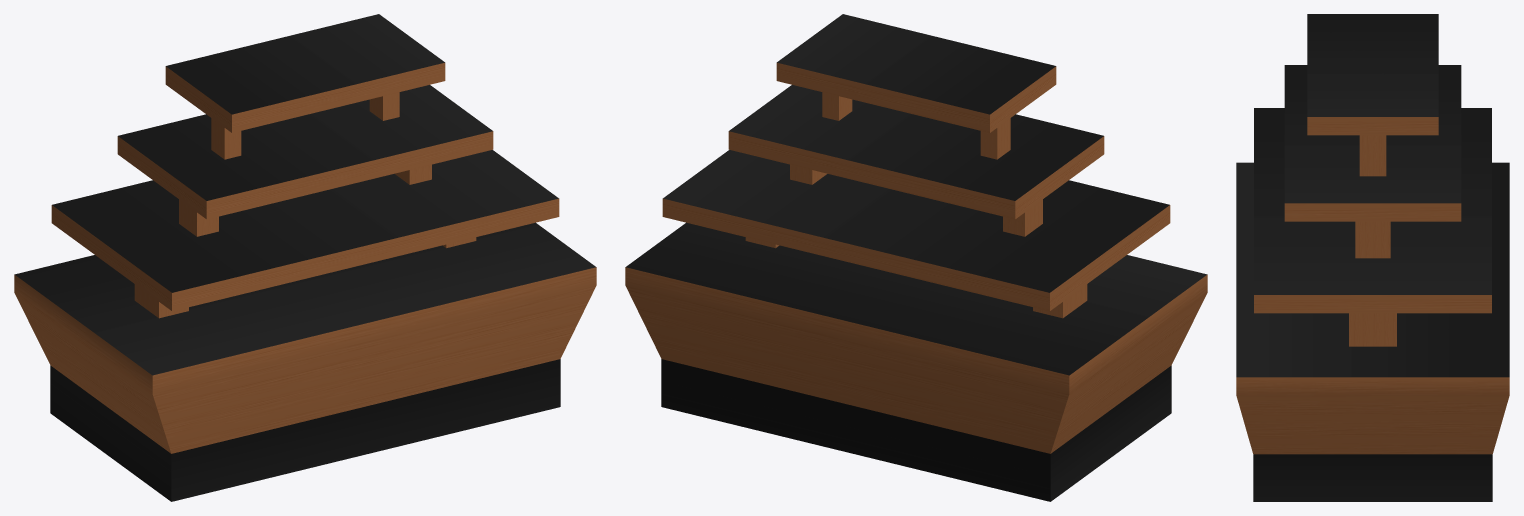
File: Display_A.FBX
3 renders of one model, left to right at view 1: azimuth 30°, elevation 25°; view 2: azimuth 150°, elevation 25°; view 3: azimuth 270°, elevation 25°, orthographic.
Parts seen in each view (by area): view 1: Display_A; view 2: Display_A; view 3: Display_A.
Part boxes in pixels (x1,y1,x2,y2): Display_A: (14,14,596,501); Display_A: (625,14,1207,501); Display_A: (1236,14,1509,501).
Bounding box in the file's own units: 371 × 276 × 200.
